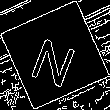N_N: (27, 24, 83, 86)
